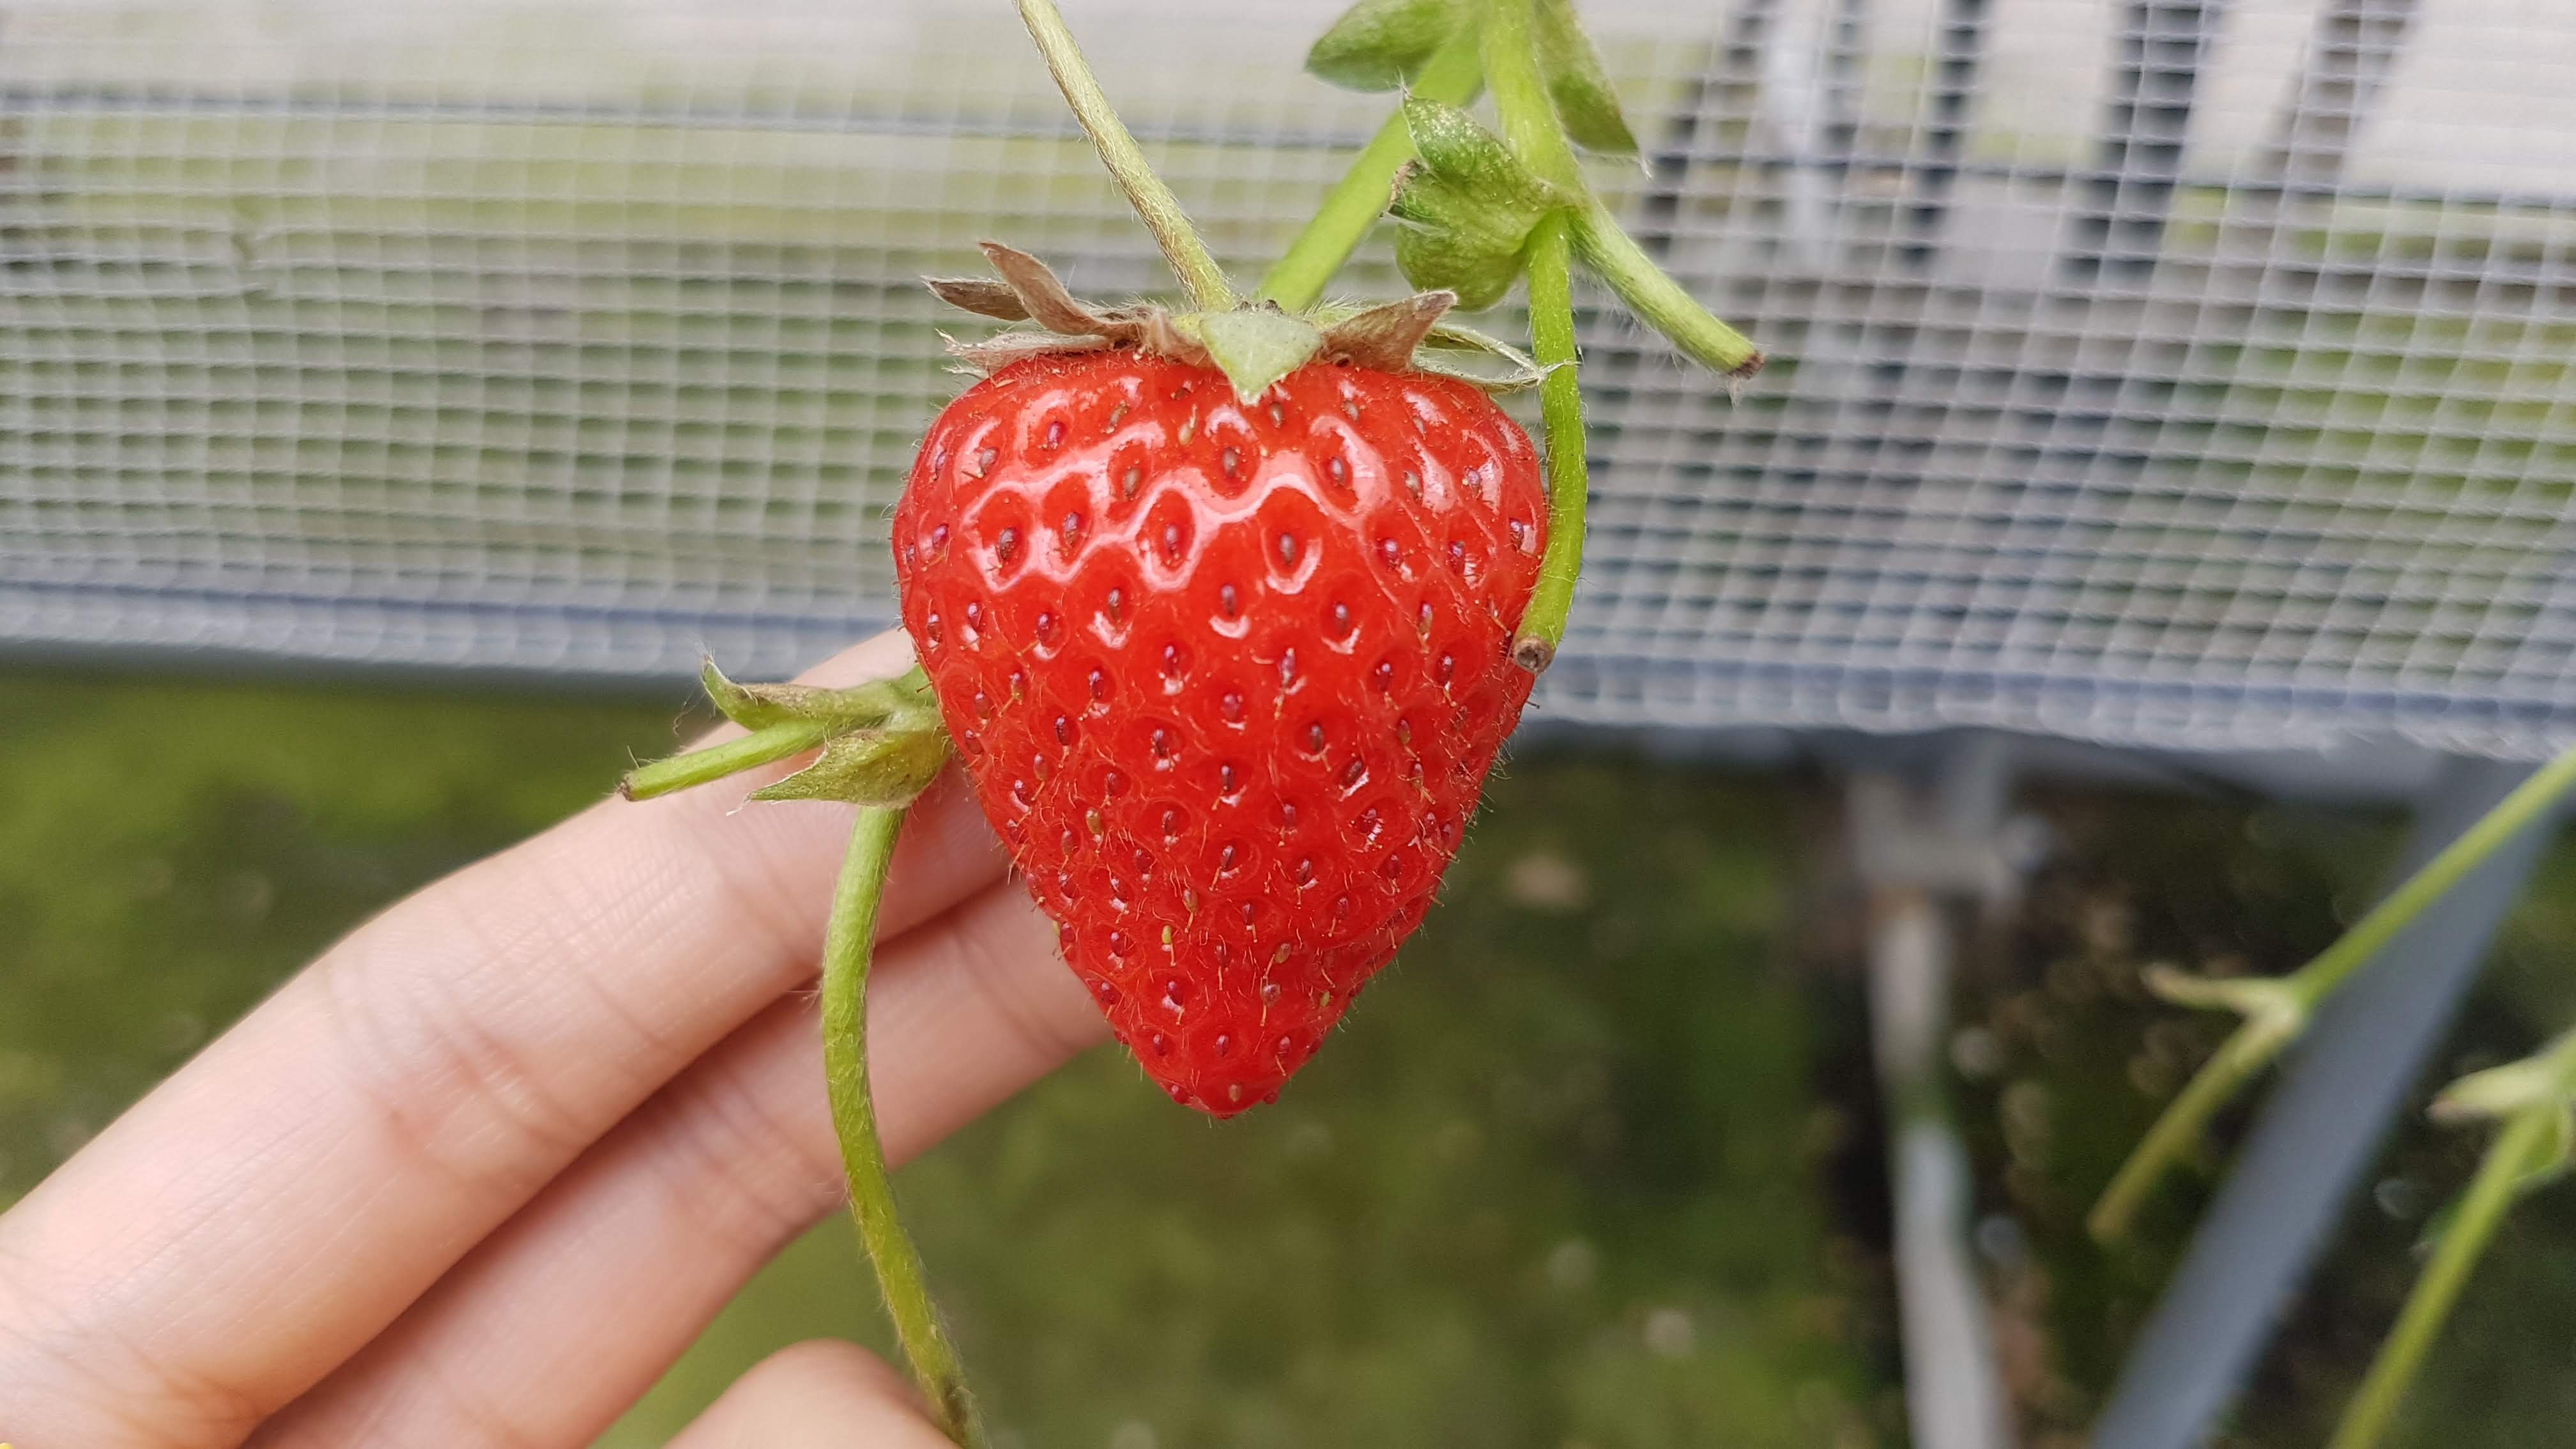ripe: (895, 301, 1601, 1123)
